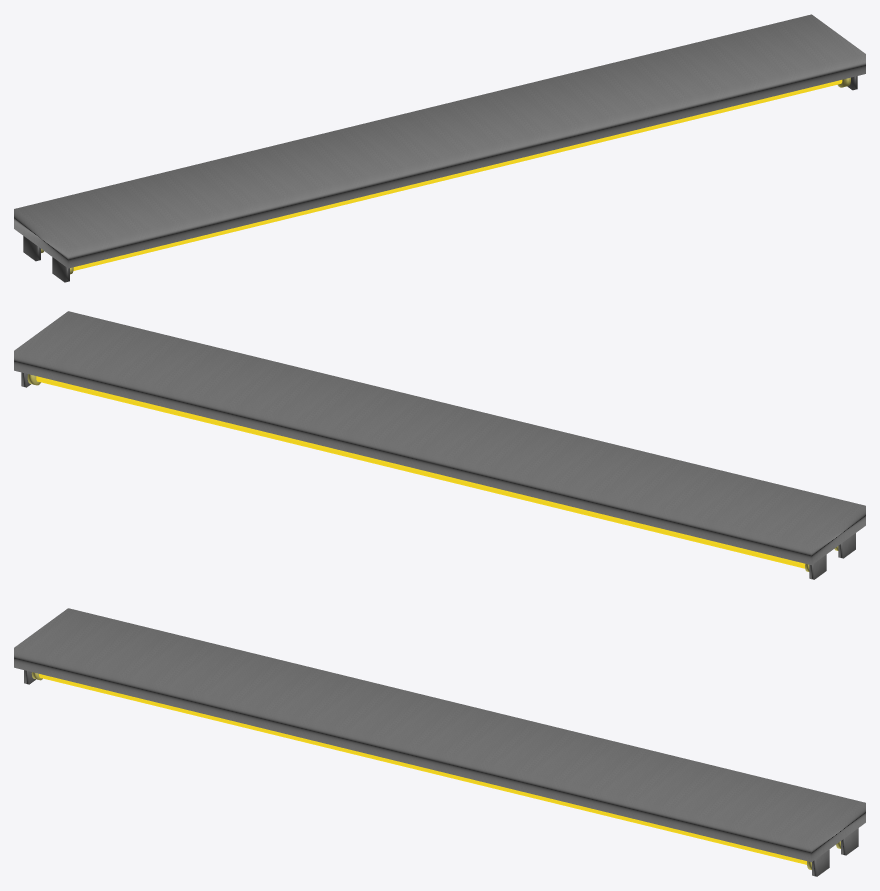
File: Fluorecente.glb
3 views of the same model, one above another, from view 1: azimuth 30°, elevation 25°; view 2: azimuth 150°, elevation 25°; view 3: azimuth 330°, elevation 25° (orthographic).
Visible parts, largest first — view 1: Cube, Cylinder; view 2: Cube, Cylinder; view 3: Cube, Cylinder.
Boxes of the visible parts, x1=… form: Cube: x1=14, y1=14, x2=865, y2=268; Cylinder: x1=73, y1=80, x2=842, y2=270; Cube: x1=14, y1=311, x2=865, y2=565; Cylinder: x1=36, y1=376, x2=805, y2=568; Cube: x1=14, y1=608, x2=865, y2=862; Cylinder: x1=39, y1=674, x2=806, y2=864.
Bounding box in the file's own units: 11.6 × 0.5515 × 1.37.
Materials: 4 (2 with a texture image).
